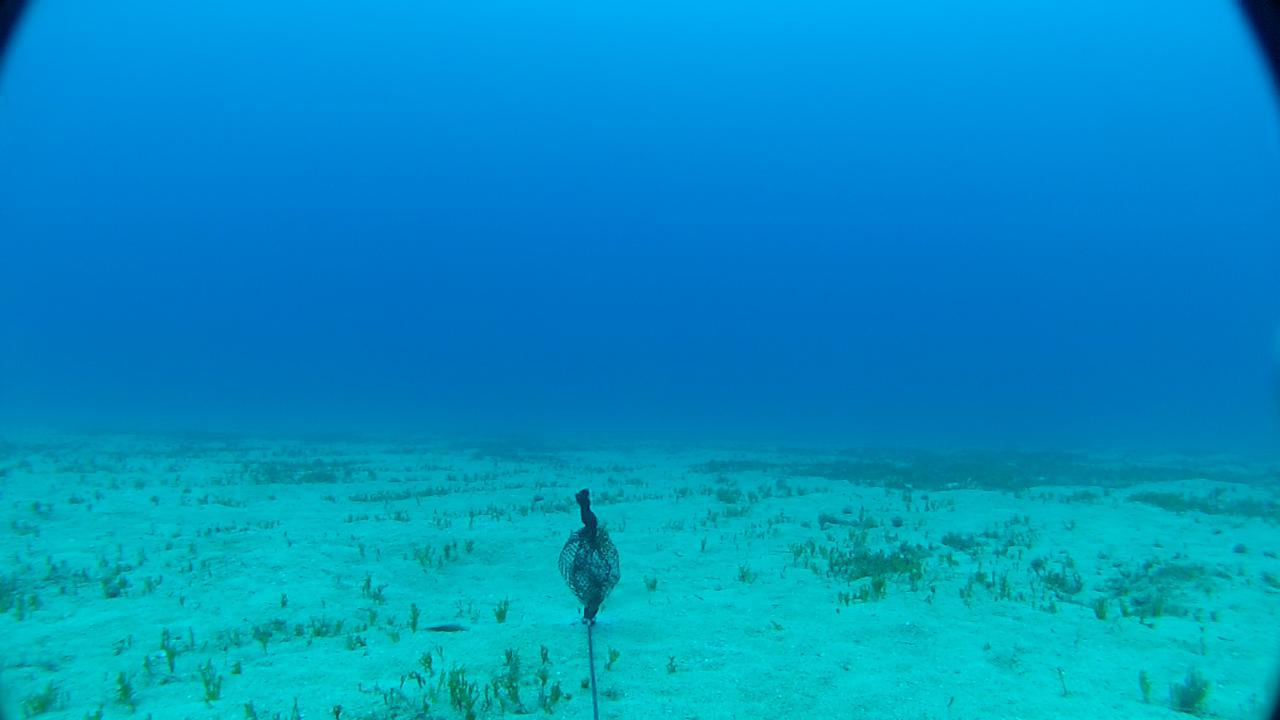bothus: (413, 616, 466, 636)
